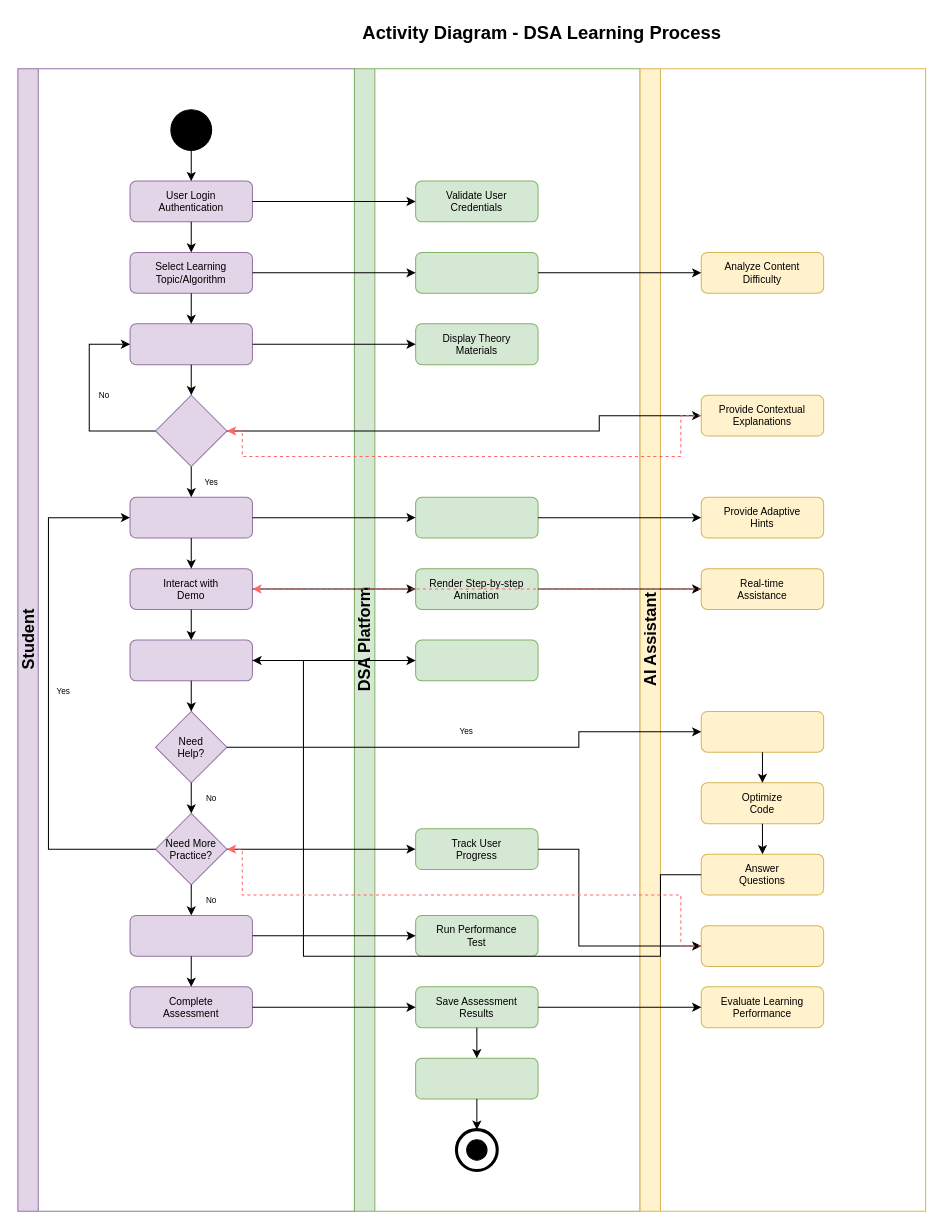
The diagram is 944 pixels wide and 1229 high, and some of its shapes have lost their labels. Here are the shapes that lost their labels. From the top down, the box of each, then its label:
(415, 251, 538, 293): Load Algorithm Content
(129, 323, 252, 365): Read Theory Materials
(155, 394, 227, 467): Theory Clear?
(129, 496, 252, 538): Start Algorithm Visualization
(415, 496, 538, 538): Initialize Visualizer
(129, 639, 252, 681): Practice Code Implementation
(415, 639, 538, 681): Open Code Playground
(700, 710, 824, 752): Generate Hints
(129, 914, 252, 956): Complete Exercise
(700, 925, 824, 966): Personalize Next Learning Path
(415, 1057, 538, 1099): Generate Certificate
